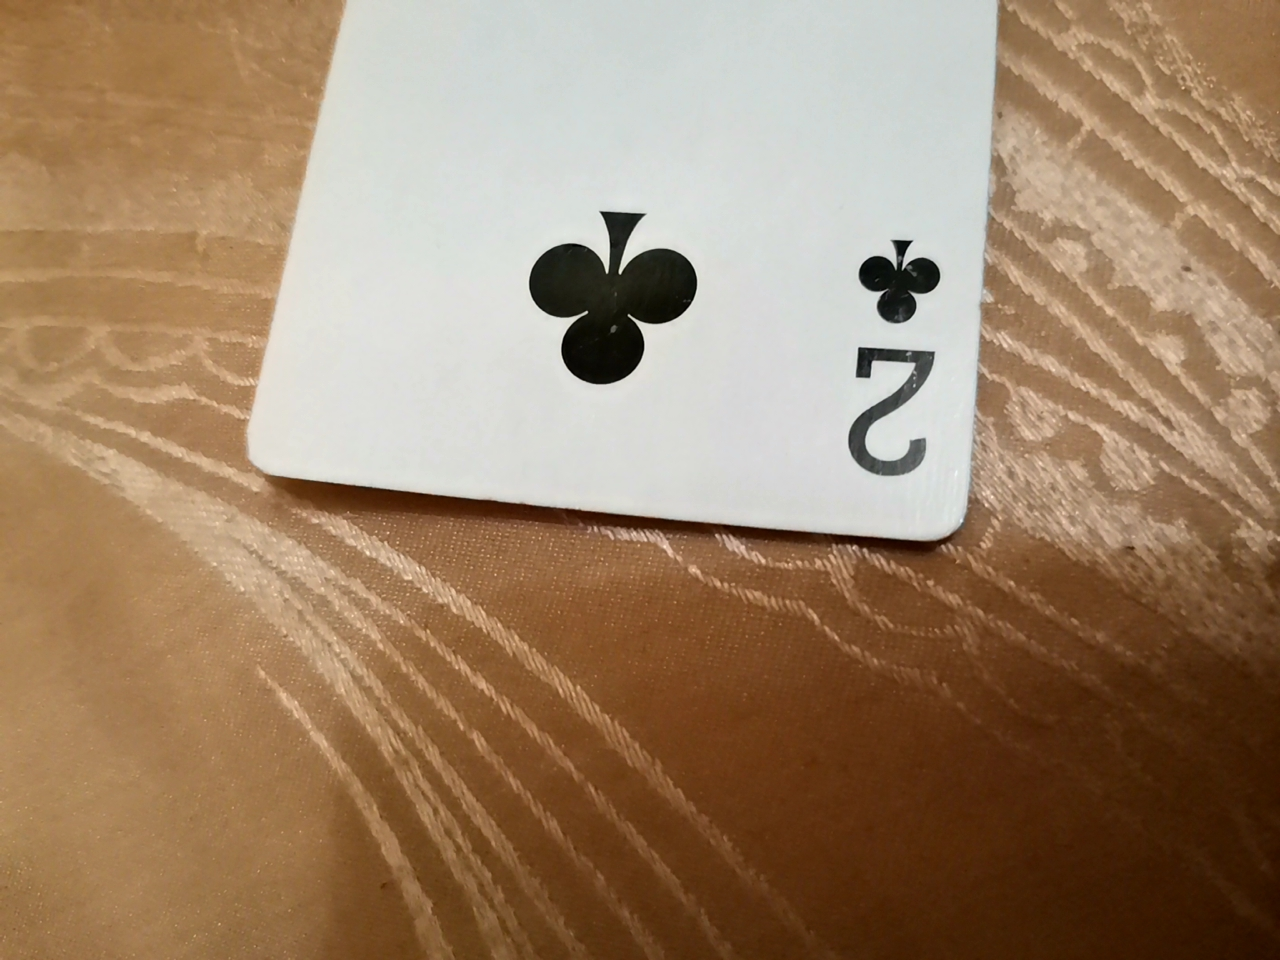mh 2: (254, 11, 1056, 587)
